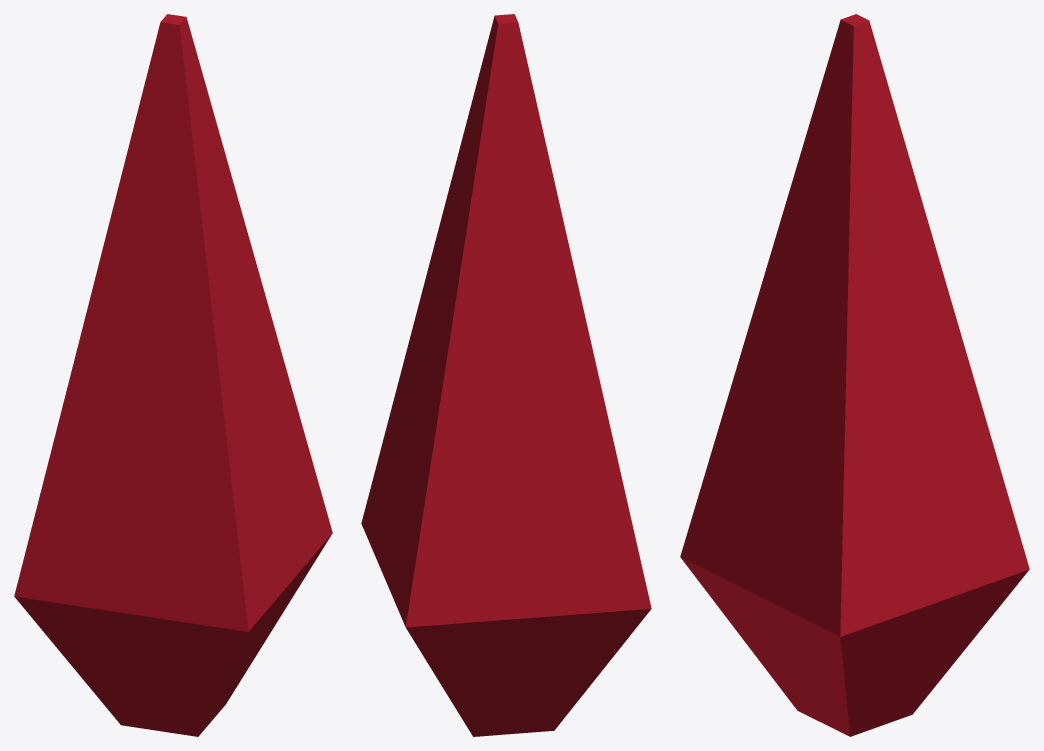
Rendered from tree-dead-leaves-027.glb.
3 renders of one model, left to right at view 1: azimuth 30°, elevation 25°; view 2: azimuth 150°, elevation 25°; view 3: azimuth 270°, elevation 25°, orthographic.
Visible parts, largest first — view 1: Plane.094_469; view 2: Plane.094_469; view 3: Plane.094_469.
Part boxes in pixels (box(x1,y1,x2,y2)): Plane.094_469: box(14, 14, 332, 736); Plane.094_469: box(361, 14, 651, 736); Plane.094_469: box(680, 14, 1029, 736).
Size of the model in its own units: 0.6307 by 1.38 by 0.6307.
